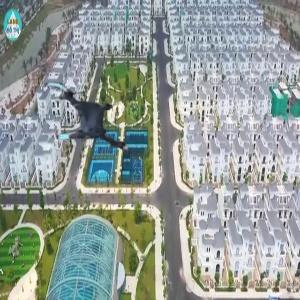drone: (35, 71, 130, 166)
